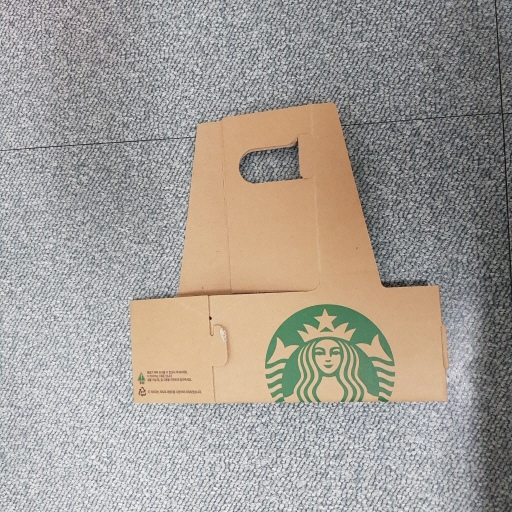Paper_0: (122, 97, 453, 428)
